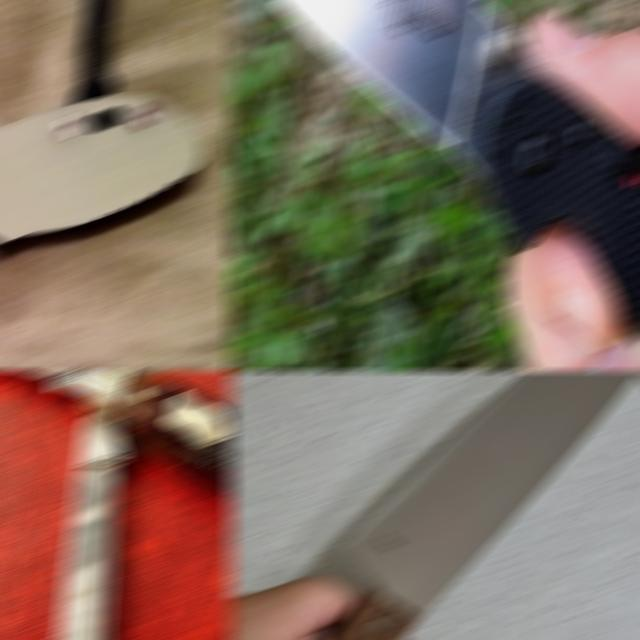Knife: (320, 372, 640, 639)
Knife_Handle: (226, 1, 640, 370), (226, 372, 640, 639)
